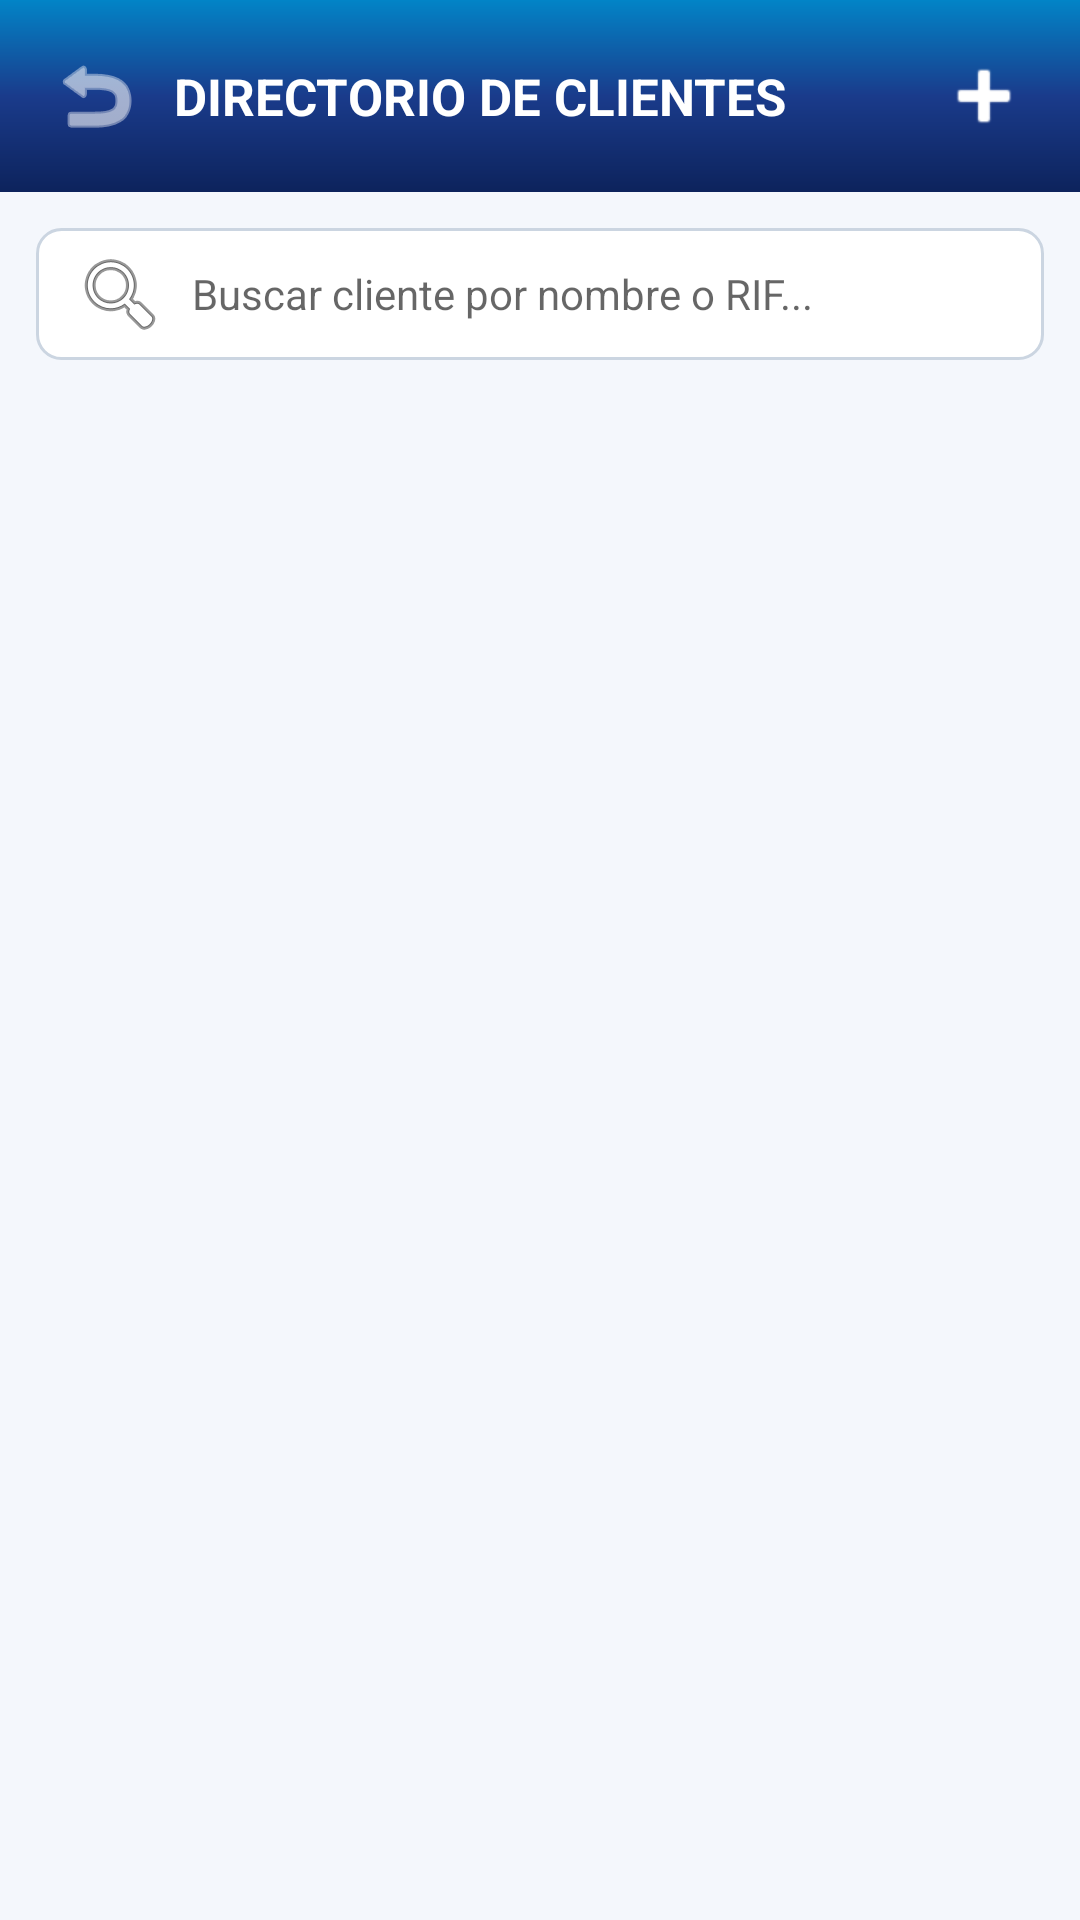

Icons on this 1080px x 1920px Android screen, each with the point to tap as (x=x, y=y):
Atrás: (x=96, y=96)
Nuevo Cliente: (x=984, y=96)
